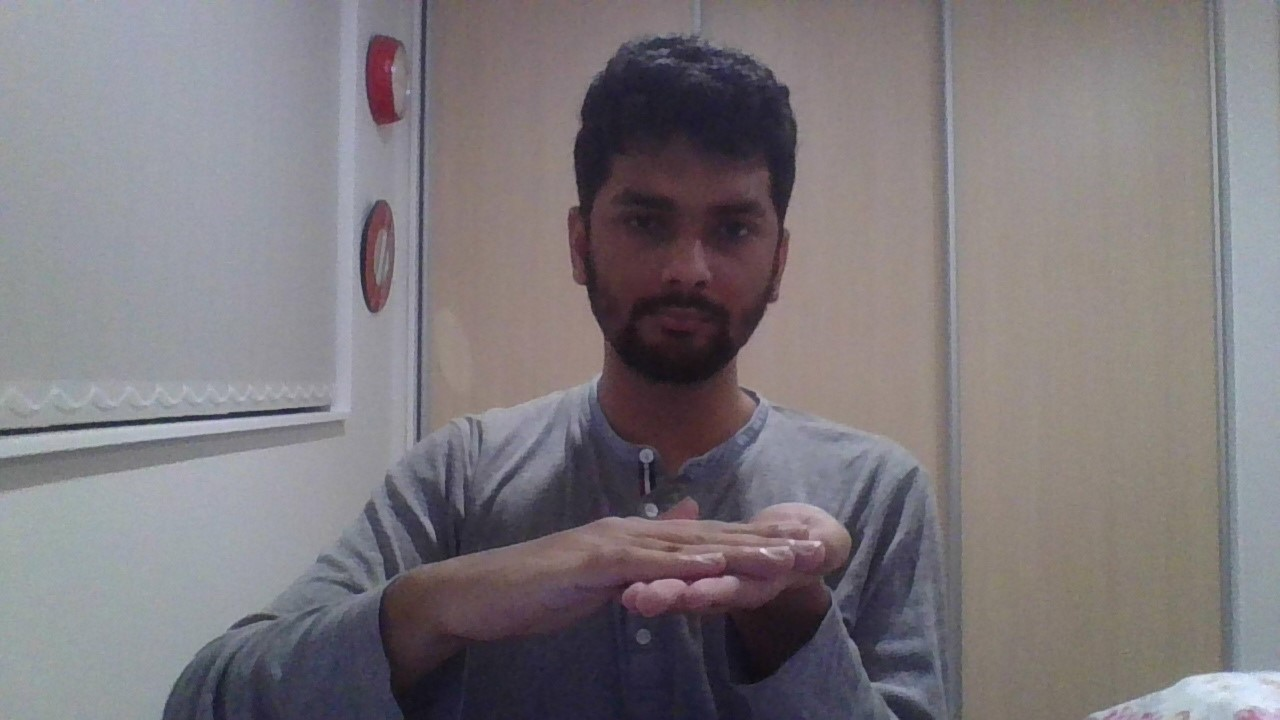clear: (437, 496, 854, 637)
